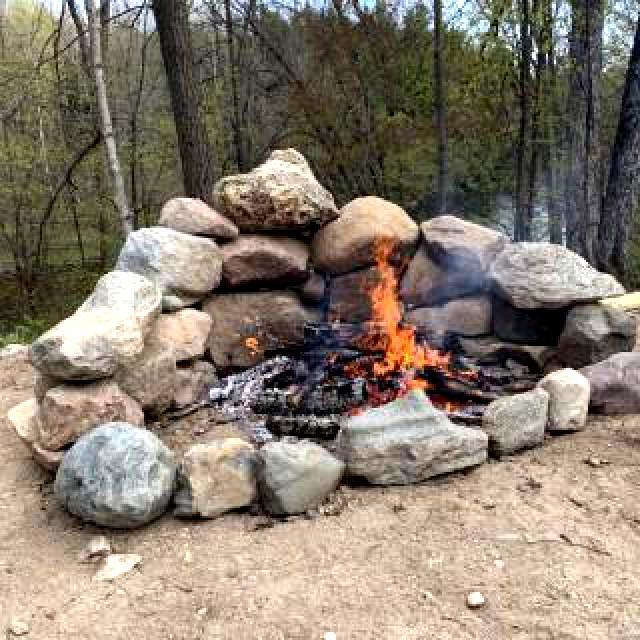Fire: (358, 232, 429, 384)
Smoke: (438, 234, 501, 326)
